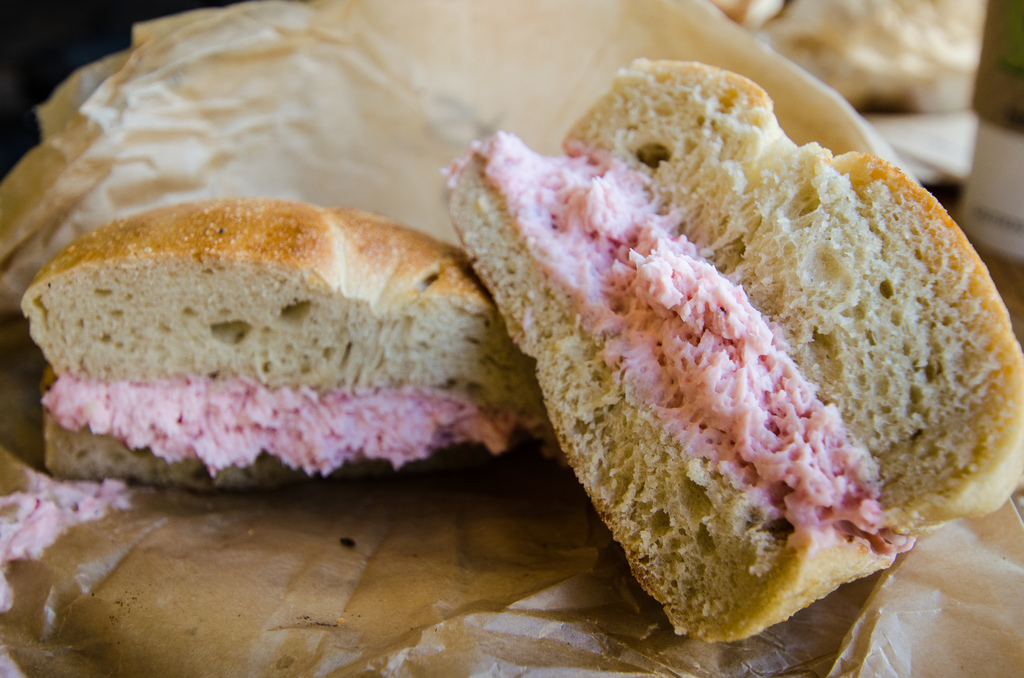sandwich: (444, 56, 1022, 641), (16, 200, 567, 492)
